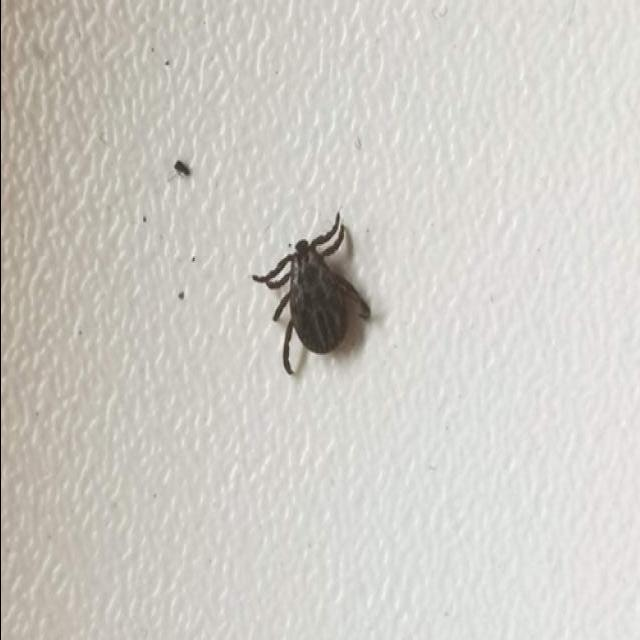Dermacentor Reticulatus-M: (251, 212, 371, 375)
